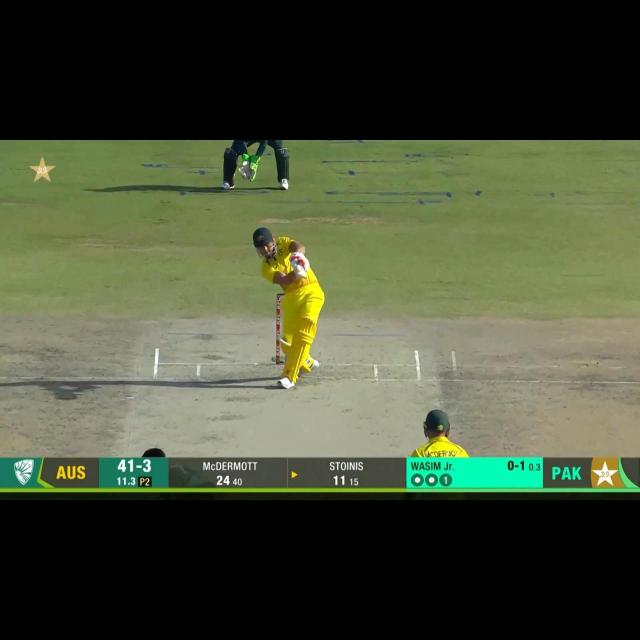bat: (291, 266, 309, 280)
toe: (294, 271, 308, 280)
